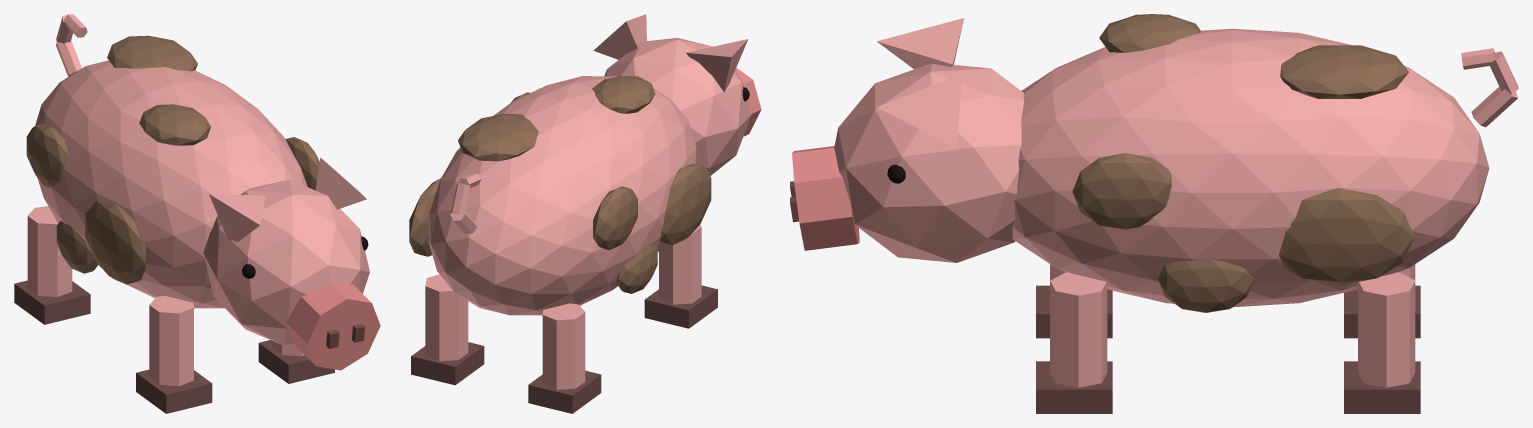
Rendered from pig.glb.
The picture shows the model from 3 angles, left to right: view 1: azimuth 30°, elevation 25°; view 2: azimuth 150°, elevation 25°; view 3: azimuth 270°, elevation 25°; orthographic projection. The views are drawn at different scales.
Visible parts, largest first — view 1: body, skull, snout, leg_FR_shaft, patch_3, leg_BR_shaft, patch_6, patch_7, leg_FR_hoof, leg_BR_hoof, patch_4, ear_1 (+6 smaller); view 2: body, skull, leg_BR_shaft, leg_BL_shaft, patch_6, patch_3, leg_FR_shaft, patch_4, leg_FR_hoof, leg_BL_hoof, leg_BR_hoof, patch_7 (+7 smaller); view 3: body, skull, patch, leg_FL_shaft, leg_BL_shaft, patch_1, patch_6, snout, patch_2, ear, leg_FL_hoof, leg_BL_hoof (+6 smaller).
Part boxes in pixels (x1=…): body: x1=35, y1=60, x2=307, y2=308; skull: x1=203, y1=179, x2=369, y2=345; snout: x1=286, y1=282, x2=380, y2=370; leg_FR_shaft: x1=149, y1=295, x2=193, y2=386; patch_3: x1=85, y1=200, x2=145, y2=284; leg_BR_shaft: x1=27, y1=206, x2=72, y2=296; patch_6: x1=107, y1=35, x2=197, y2=71; patch_7: x1=139, y1=104, x2=210, y2=145; leg_FR_hoof: x1=136, y1=369, x2=212, y2=413; leg_BR_hoof: x1=14, y1=280, x2=90, y2=324; patch_4: x1=26, y1=124, x2=68, y2=187; ear_1: x1=209, y1=193, x2=265, y2=241; body: x1=429, y1=76, x2=696, y2=315; skull: x1=604, y1=38, x2=751, y2=175; leg_BR_shaft: x1=542, y1=303, x2=585, y2=389; leg_BL_shaft: x1=425, y1=274, x2=468, y2=361; patch_6: x1=458, y1=113, x2=538, y2=161; patch_3: x1=659, y1=163, x2=711, y2=245; leg_FR_shaft: x1=659, y1=225, x2=701, y2=304; patch_4: x1=593, y1=186, x2=637, y2=250; leg_FR_hoof: x1=644, y1=285, x2=717, y2=328; leg_BL_hoof: x1=411, y1=342, x2=484, y2=385; leg_BR_hoof: x1=528, y1=370, x2=601, y2=413; patch_7: x1=592, y1=76, x2=655, y2=113; body: x1=1012, y1=28, x2=1489, y2=307; skull: x1=834, y1=63, x2=1024, y2=262; patch: x1=1279, y1=188, x2=1414, y2=285; leg_FL_shaft: x1=1050, y1=272, x2=1107, y2=387; leg_BL_shaft: x1=1358, y1=272, x2=1415, y2=387; patch_1: x1=1072, y1=153, x2=1171, y2=229; patch_6: x1=1280, y1=45, x2=1408, y2=98; snout: x1=792, y1=146, x2=859, y2=250; patch_2: x1=1158, y1=259, x2=1253, y2=312; ear: x1=877, y1=74, x2=962, y2=148; leg_FL_hoof: x1=1036, y1=361, x2=1112, y2=413; leg_BL_hoof: x1=1344, y1=361, x2=1420, y2=413.
Size of the model in its own units: 0.5587 by 0.6661 by 1.36.
